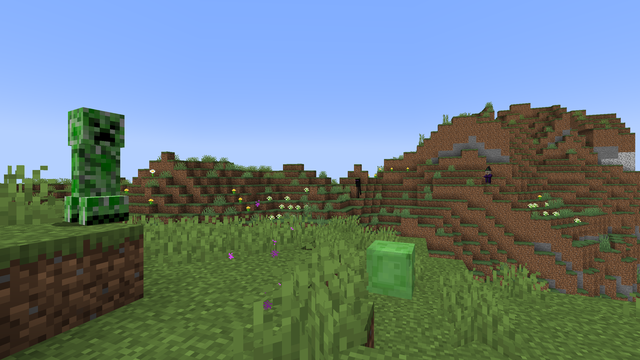creepers: (59, 100, 130, 224)
endermens: (355, 178, 359, 198)
slimes: (366, 238, 413, 299)
sorcieres: (485, 170, 491, 184)
